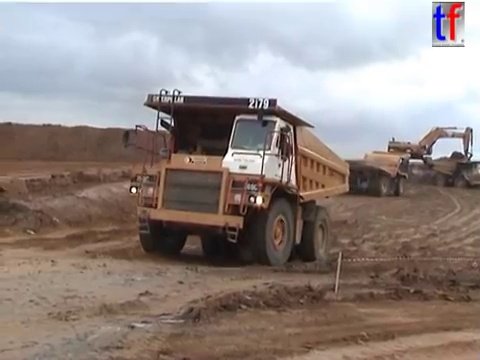excavator: (385, 125, 475, 171)
truck: (120, 86, 352, 268), (340, 149, 411, 198), (425, 157, 480, 191)
